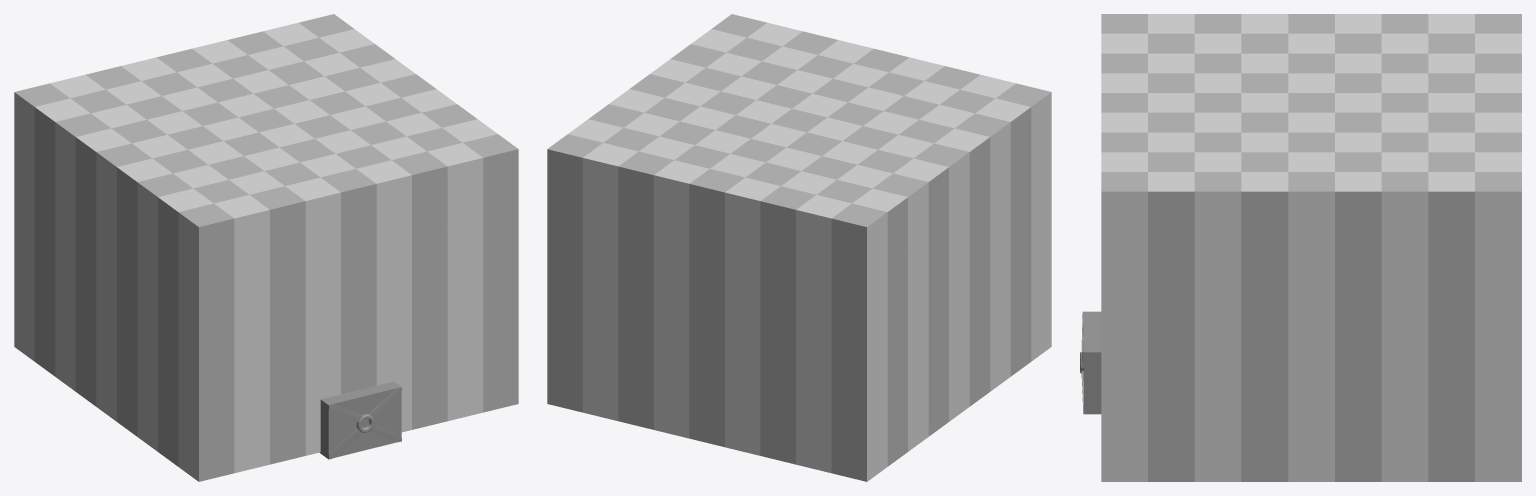
Rendered from StartRoom1 (1).fbx.
3 views of the same model, side by side, from view 1: azimuth 30°, elevation 25°; view 2: azimuth 150°, elevation 25°; view 3: azimuth 270°, elevation 25° (orthographic). The views are drawn at different scales.
Visible parts, largest first — view 1: Cube.002, Door.004; view 2: Cube.002; view 3: Cube.002, Door.004.
Part boxes in pixels (x1,y1,x2,y2): Cube.002: (14, 14, 518, 481); Door.004: (319, 381, 401, 459); Cube.002: (547, 14, 1051, 481); Cube.002: (1101, 14, 1521, 481); Door.004: (1080, 311, 1101, 414).
Bounding box in the file's own units: 6378 × 4880 × 6698.
